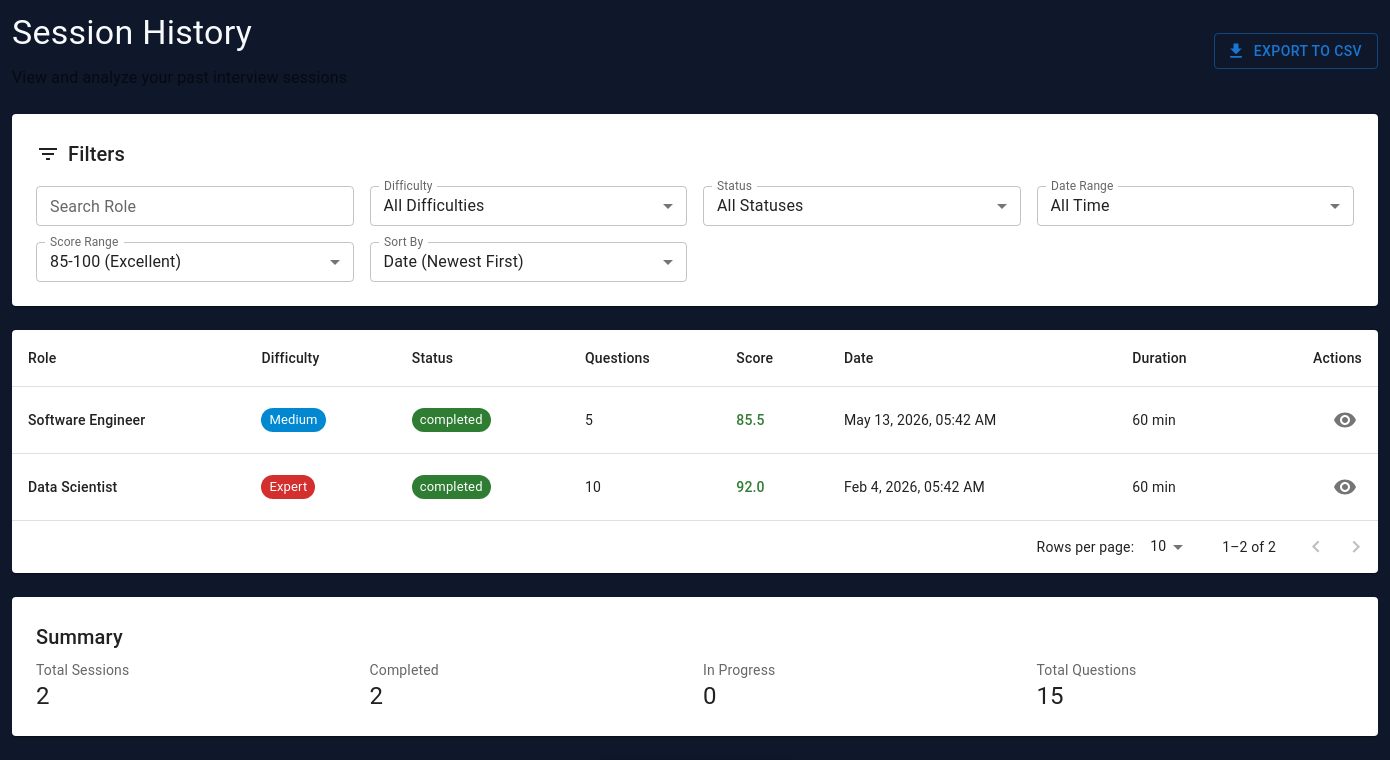
SessionHistoryPage - Search and Filter › No Results Found State › should display EmptyState when filters return no results
expect the text "Software Engineer" is shown: met, box [28,412,145,428]
Type "NonexistentRole" into the field with placeholder "e.g., Software Engineer" at (195, 206), box [36,186,354,226]
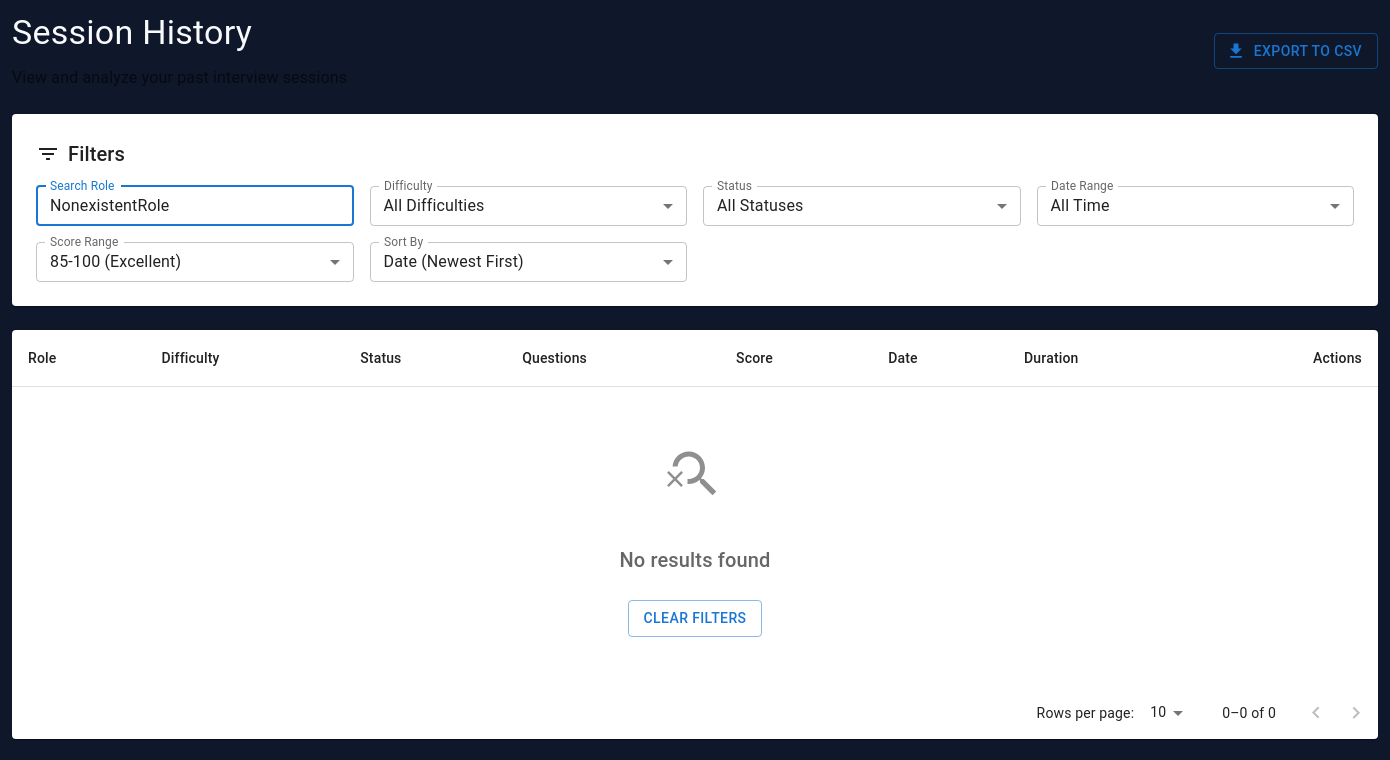
expect the heading "No results found" is shown: met, box [619,544,770,576]
expect the button "Clear Filters" is shown: met, box [628,600,762,637]
